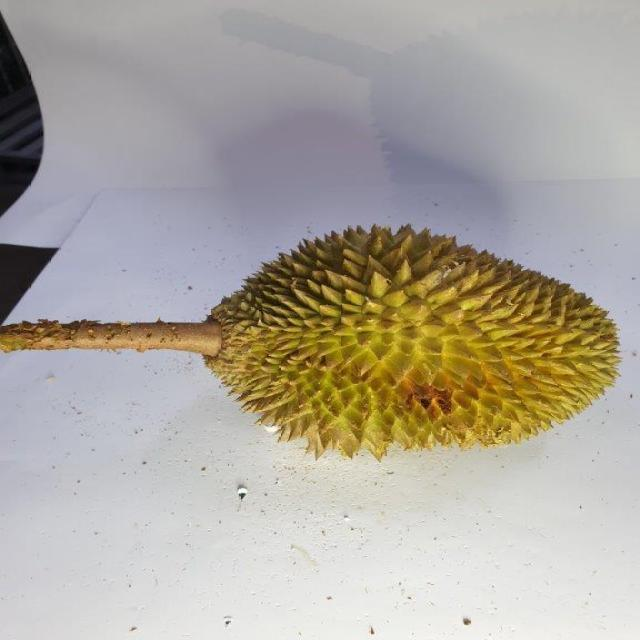mature: (200, 225, 624, 463)
